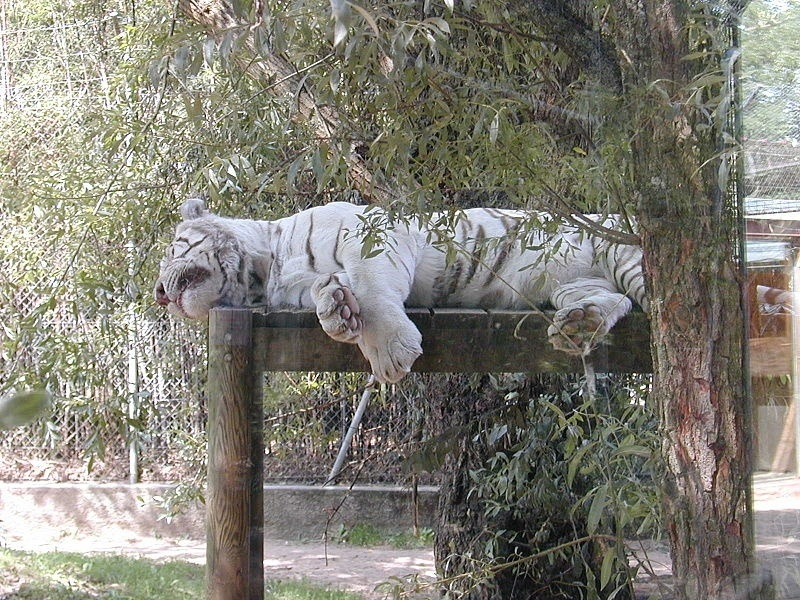tigre: (151, 196, 653, 389)
